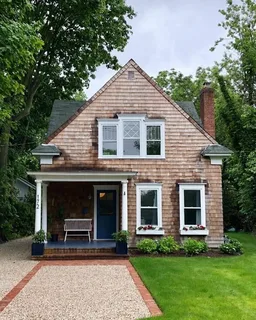private_hause: (26, 55, 233, 265)
